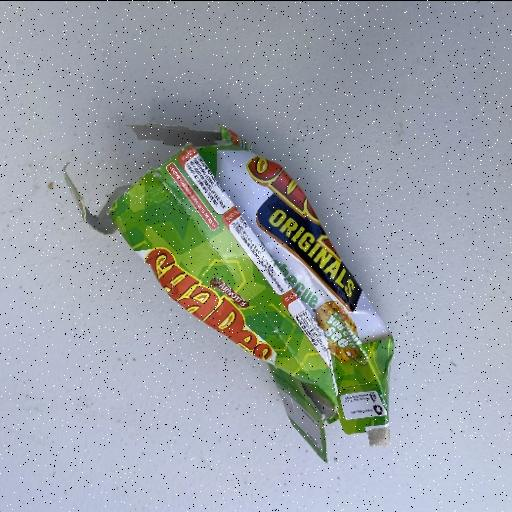Cardboard: (104, 129, 394, 462)
